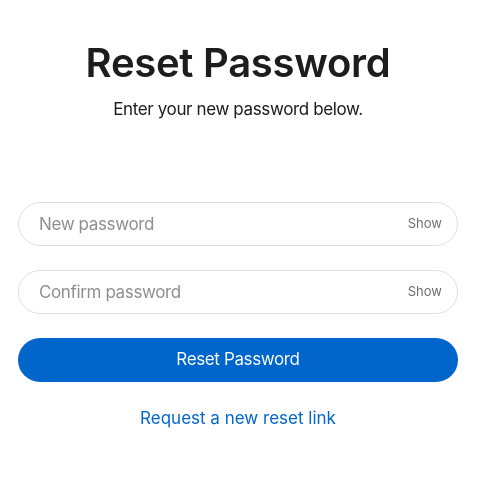
Test: ResetPasswordPage - Validation › should require both password fields
Click the button "Reset Password" at (238, 360), box top-left (18, 338), bottom-right (458, 382)
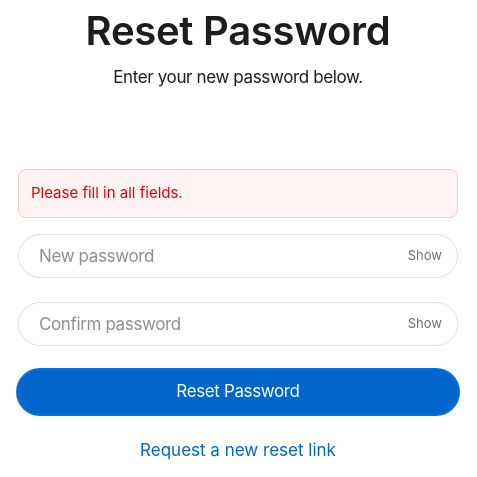
Result: the text "Please fill in all fields." is shown at top-left (18, 170), bottom-right (458, 218)
